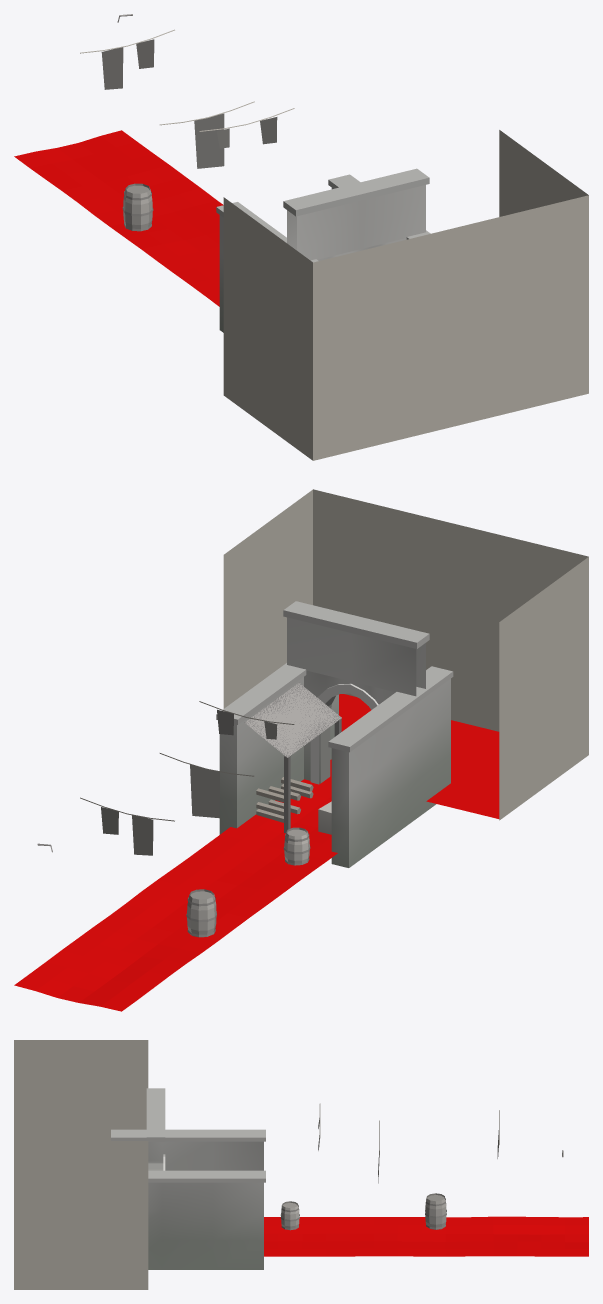
Rendered from env_alley_b.glb.
The picture shows the model from 3 angles, top to bottom: view 1: azimuth 30°, elevation 25°; view 2: azimuth 150°, elevation 25°; view 3: azimuth 270°, elevation 25°; orthographic projection. The views are drawn at different scales.
Parts seen in each view (by area): view 1: Alley; view 2: Alley; view 3: Alley.
Boxes of the visible parts, <box> form: Alley: <box>14,14,588,460</box>; Alley: <box>14,489,588,1011</box>; Alley: <box>14,1040,588,1289</box>.
Size of what is drawn, in the model's own units: 6.4 by 4.6 by 15.4.
